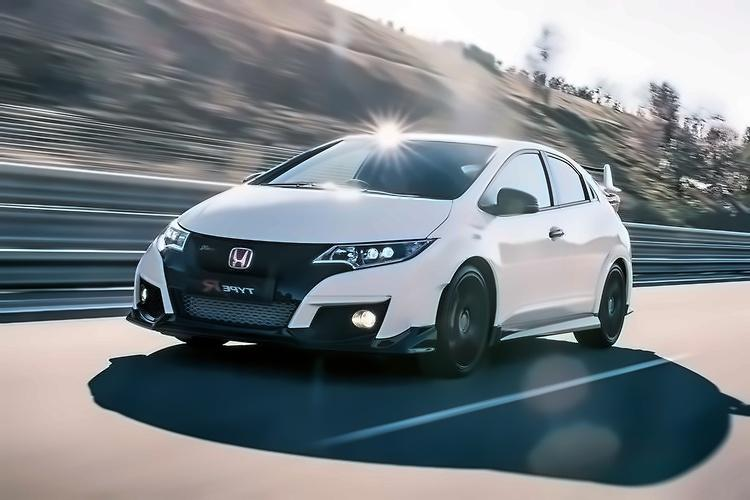Car hood: (173, 179, 457, 248)
Fender - -F-L-: (417, 195, 506, 346)
Fender - -R-L-: (592, 234, 643, 328)
Front bumper: (117, 247, 450, 363)
Headlight - -L-: (306, 233, 441, 277)
Headlight - -R-: (150, 207, 194, 257)
Passenger-s door - -F-L-: (495, 143, 566, 330)
Passenger-s door - -R-L-: (555, 148, 621, 319)
Side bumper - -L-: (492, 308, 608, 347)
Side mirror - -L-: (485, 182, 547, 224)
Side mirror - -R-: (227, 164, 272, 192)
